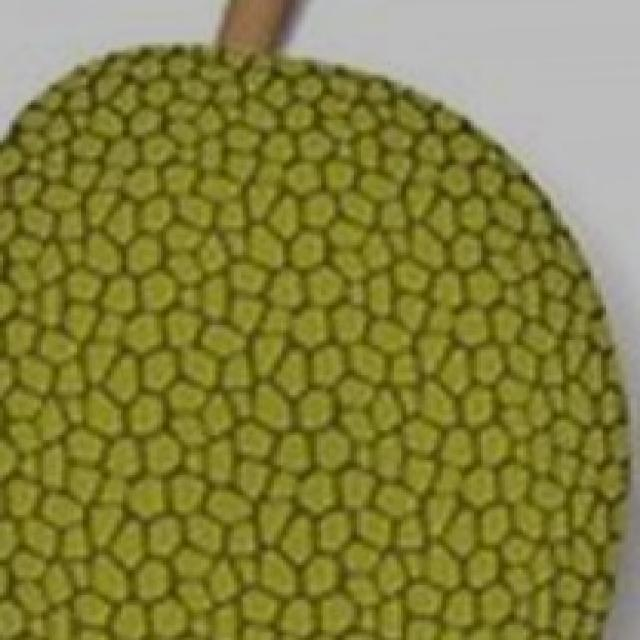Fruit: (0, 5, 406, 455), (0, 285, 375, 640), (295, 10, 640, 328)
